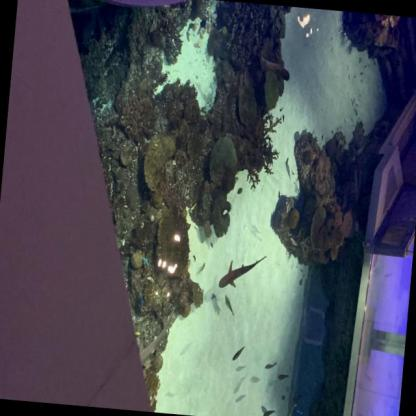fish: (221, 293, 236, 316), (232, 343, 244, 362), (276, 370, 290, 383), (263, 360, 278, 372), (261, 407, 277, 415)
shark: (217, 251, 267, 293)
